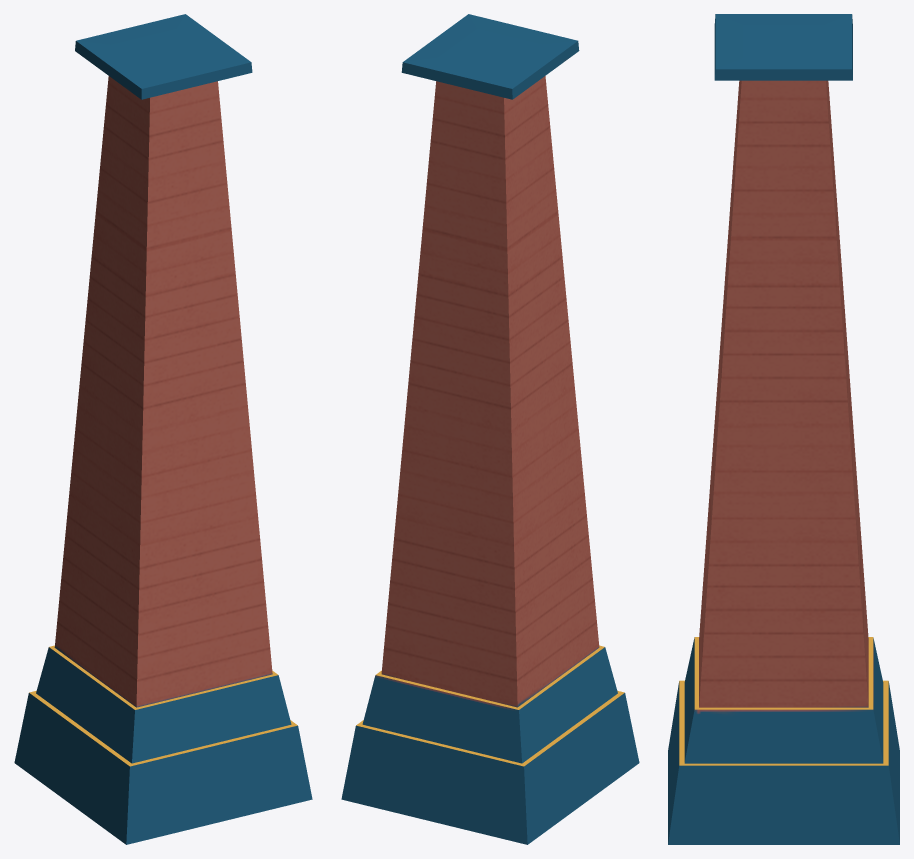
The model's file is StonePillar01.fbx.
3 views of the same model, side by side, from view 1: azimuth 30°, elevation 25°; view 2: azimuth 150°, elevation 25°; view 3: azimuth 270°, elevation 25° (orthographic). The views are drawn at different scales.
Visible parts, largest first — view 1: pCube1; view 2: pCube1; view 3: pCube1.
Part boxes in pixels (box(x1,y1,x2,y2)): pCube1: box(14, 14, 312, 844); pCube1: box(341, 14, 639, 844); pCube1: box(668, 14, 899, 844).
Size of the model in its own units: 1.33 by 4.98 by 1.38.
